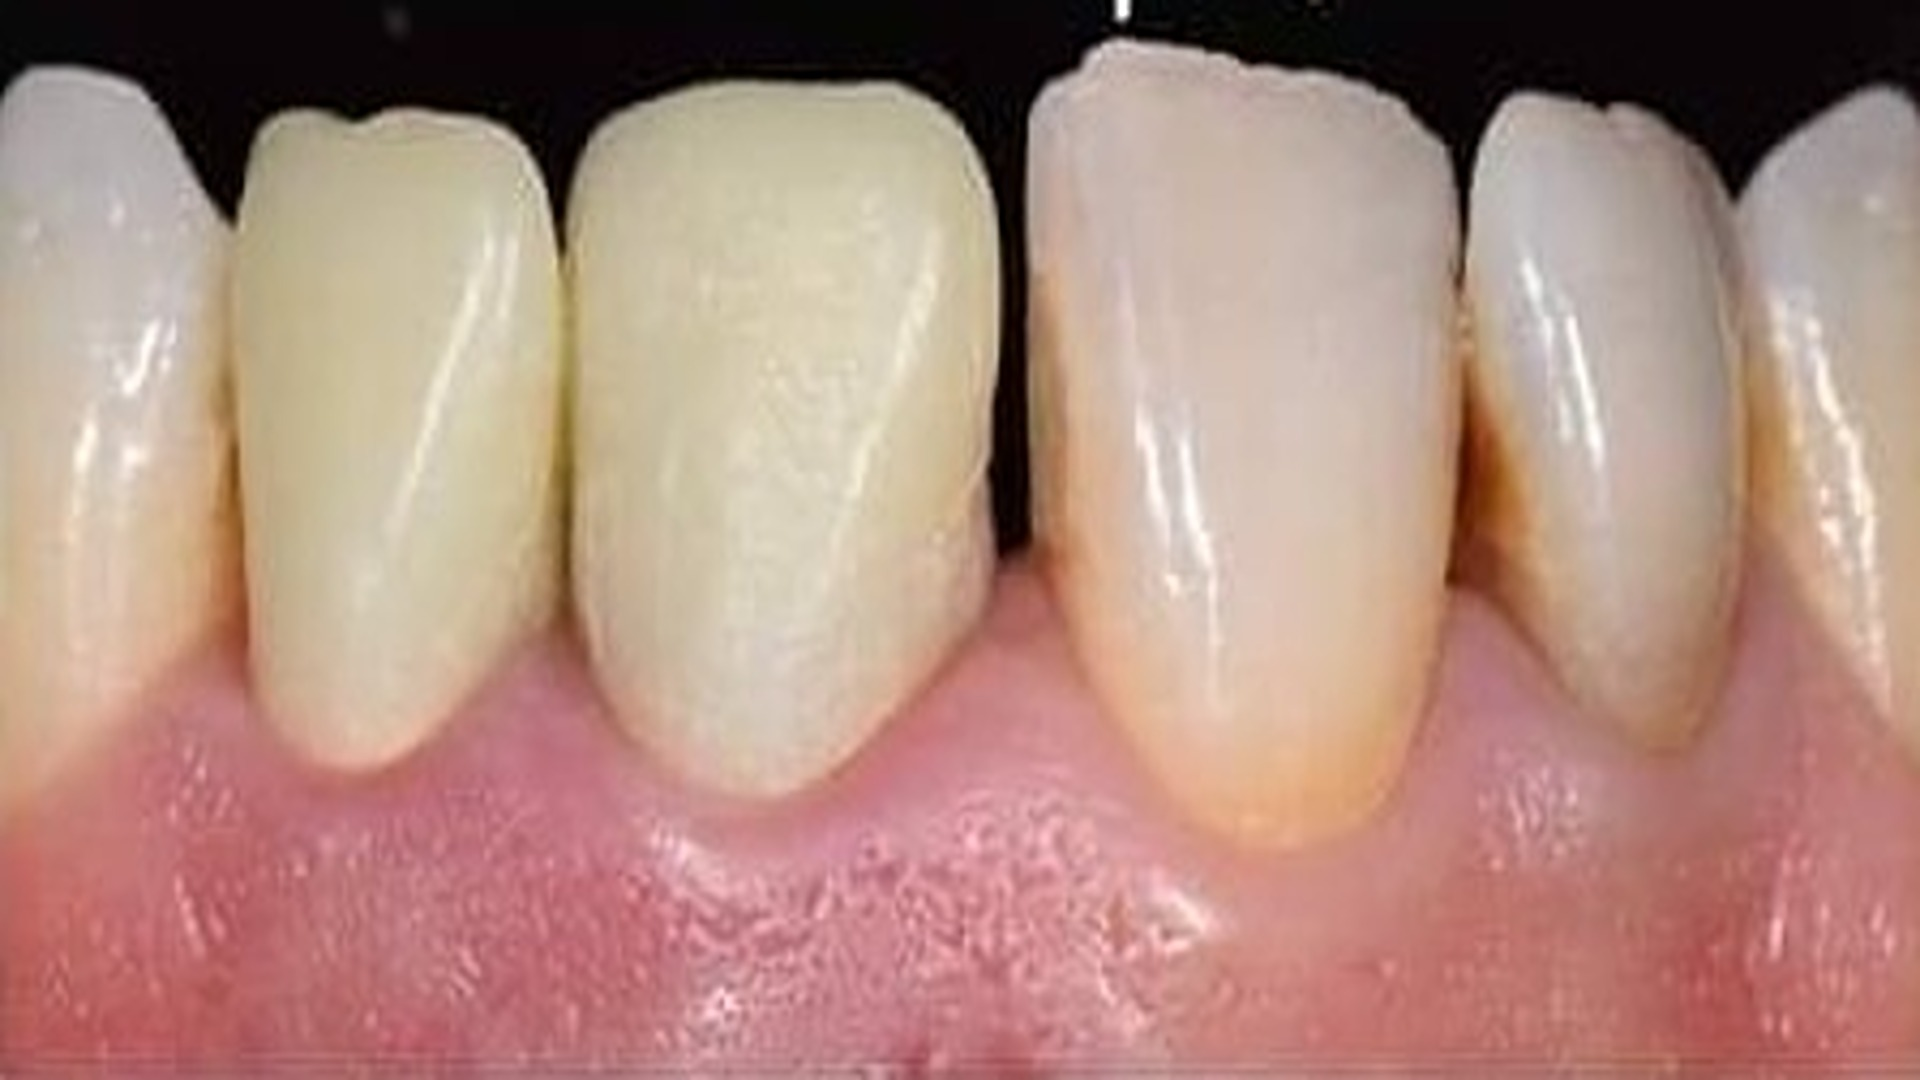tooth: (1026, 37, 1464, 850), (562, 80, 1002, 797), (228, 107, 564, 775), (1448, 90, 1749, 754)
